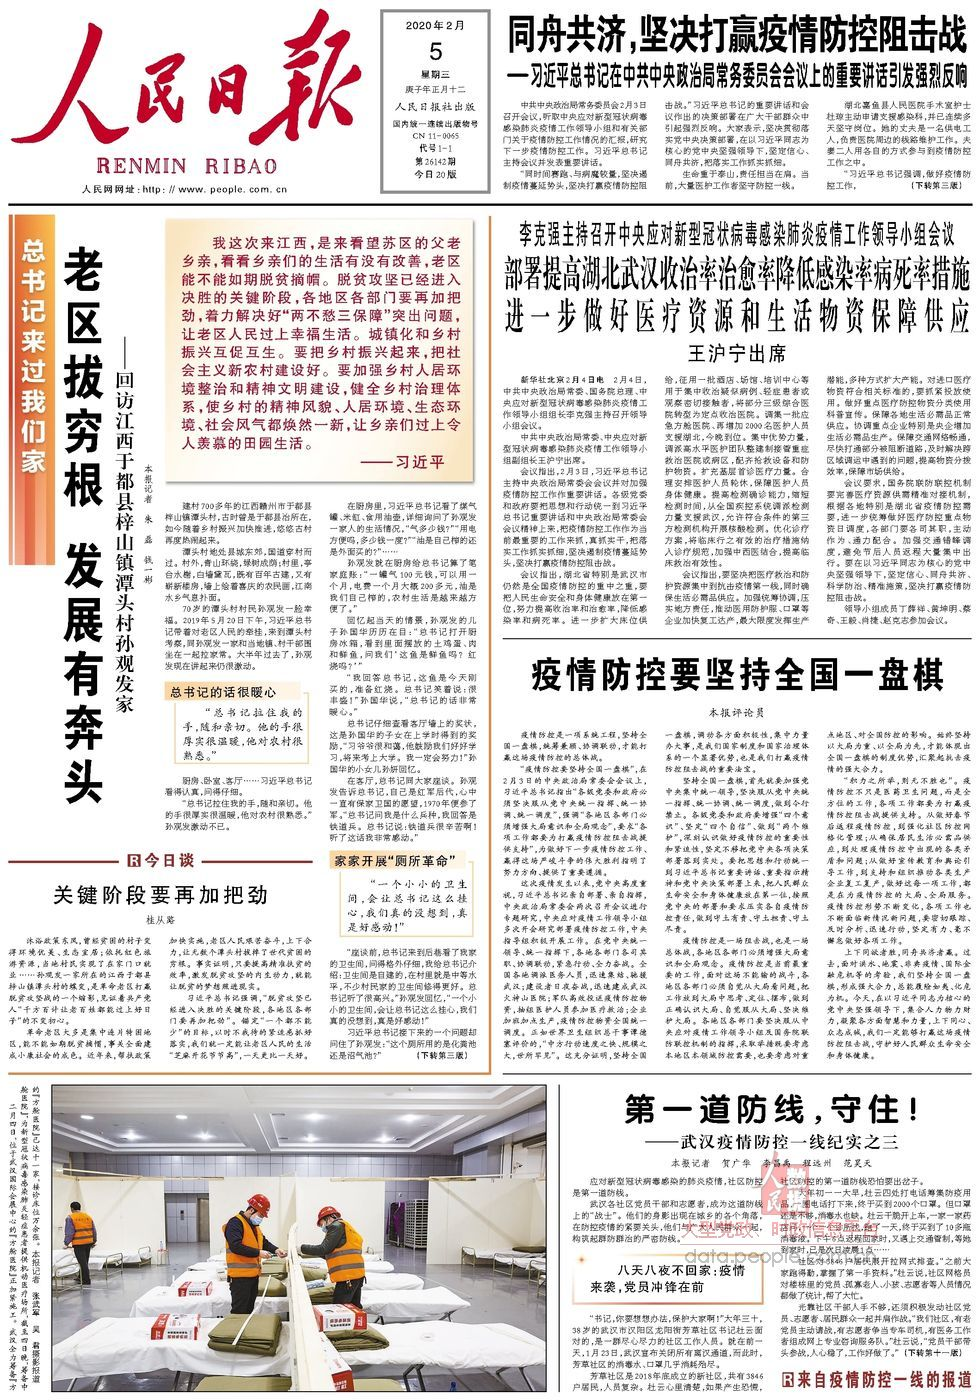pic: (47, 1079, 550, 1394)
